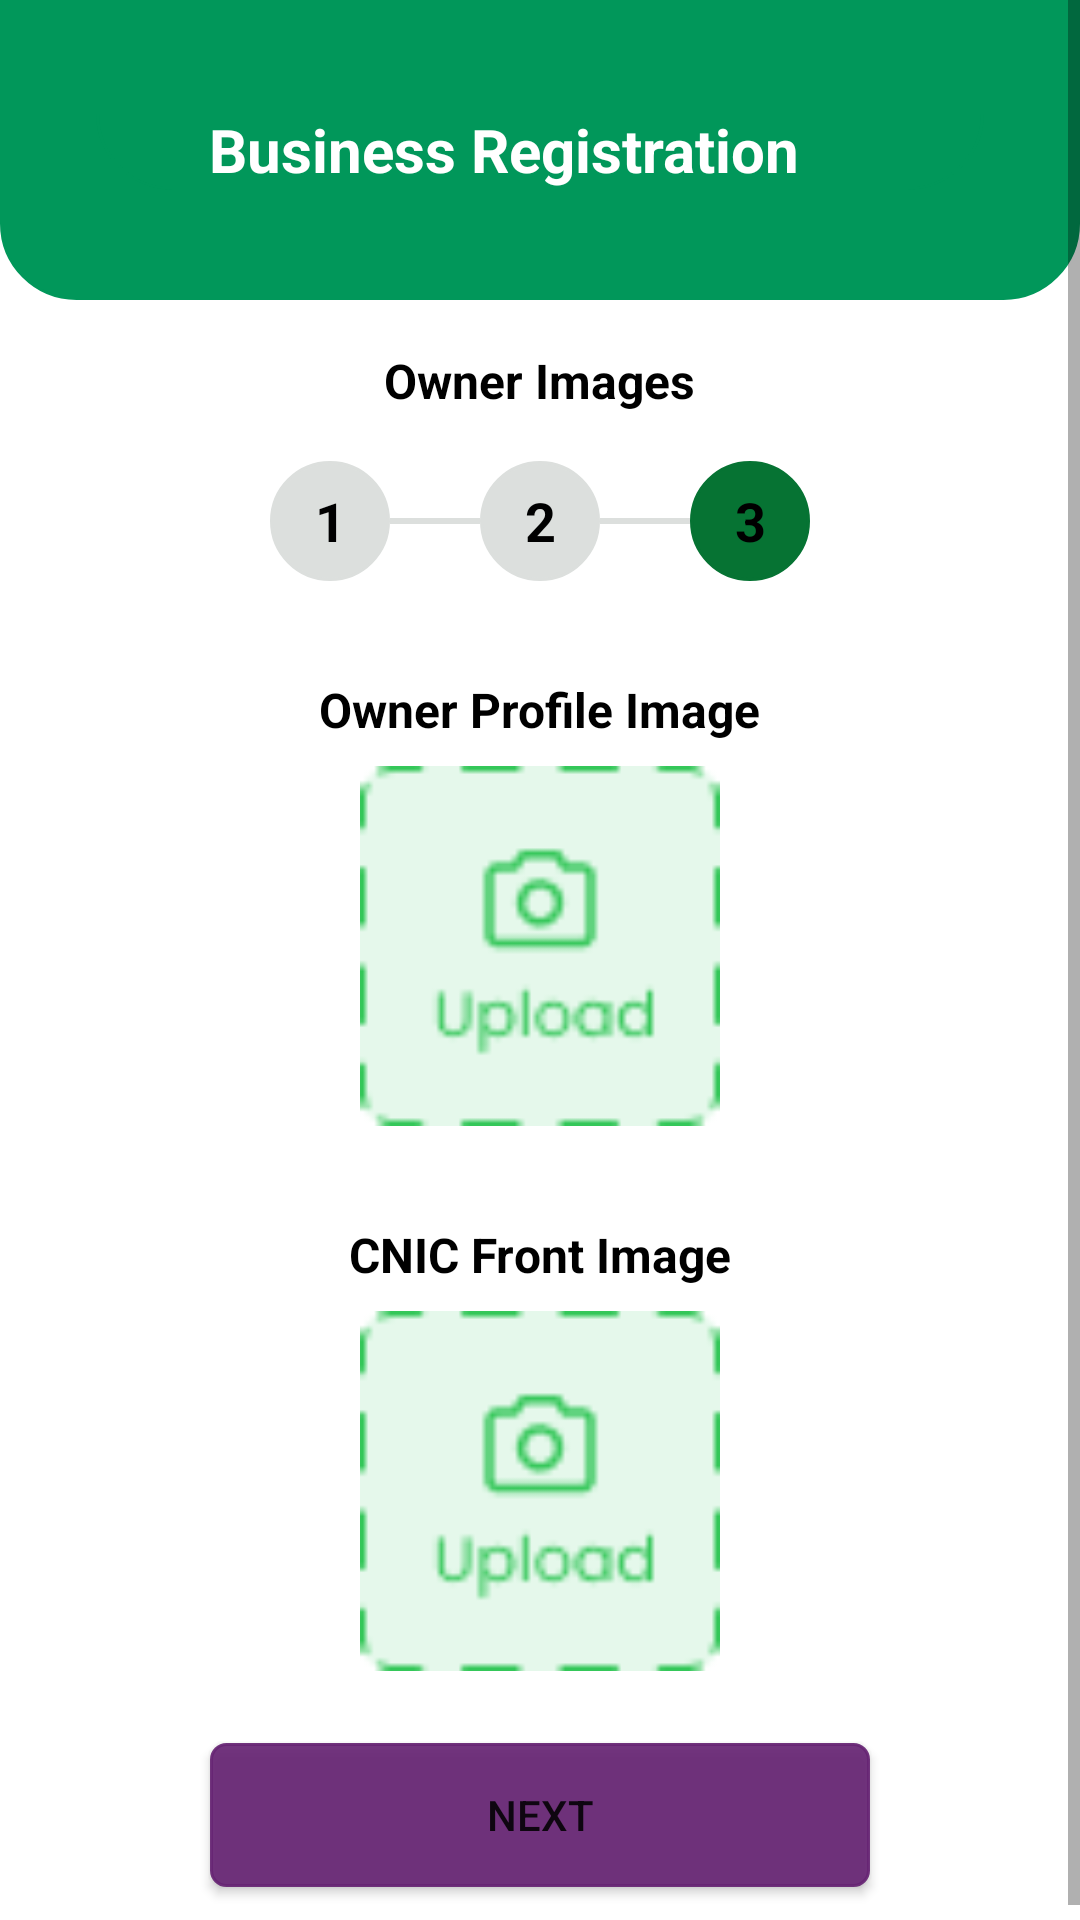

Icon click points for this 1080*1920 phone screenshot, format (x=x, y=y):
add photo: (x=540, y=946), (x=540, y=1491)
